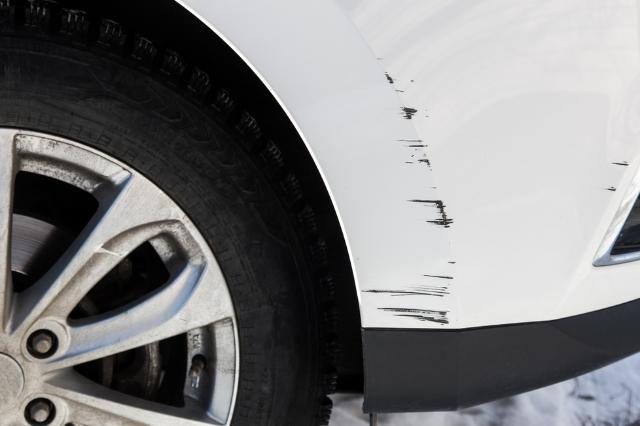Fender: (301, 19, 526, 327)
